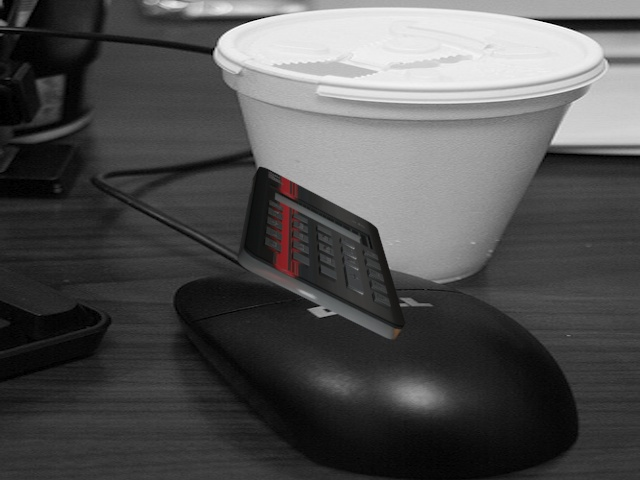calculator: (233, 161, 408, 352)
